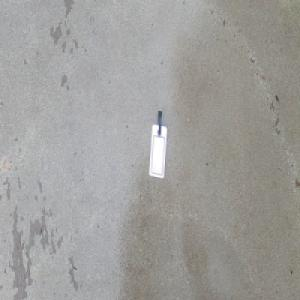LuggageTag: (147, 109, 168, 179)
